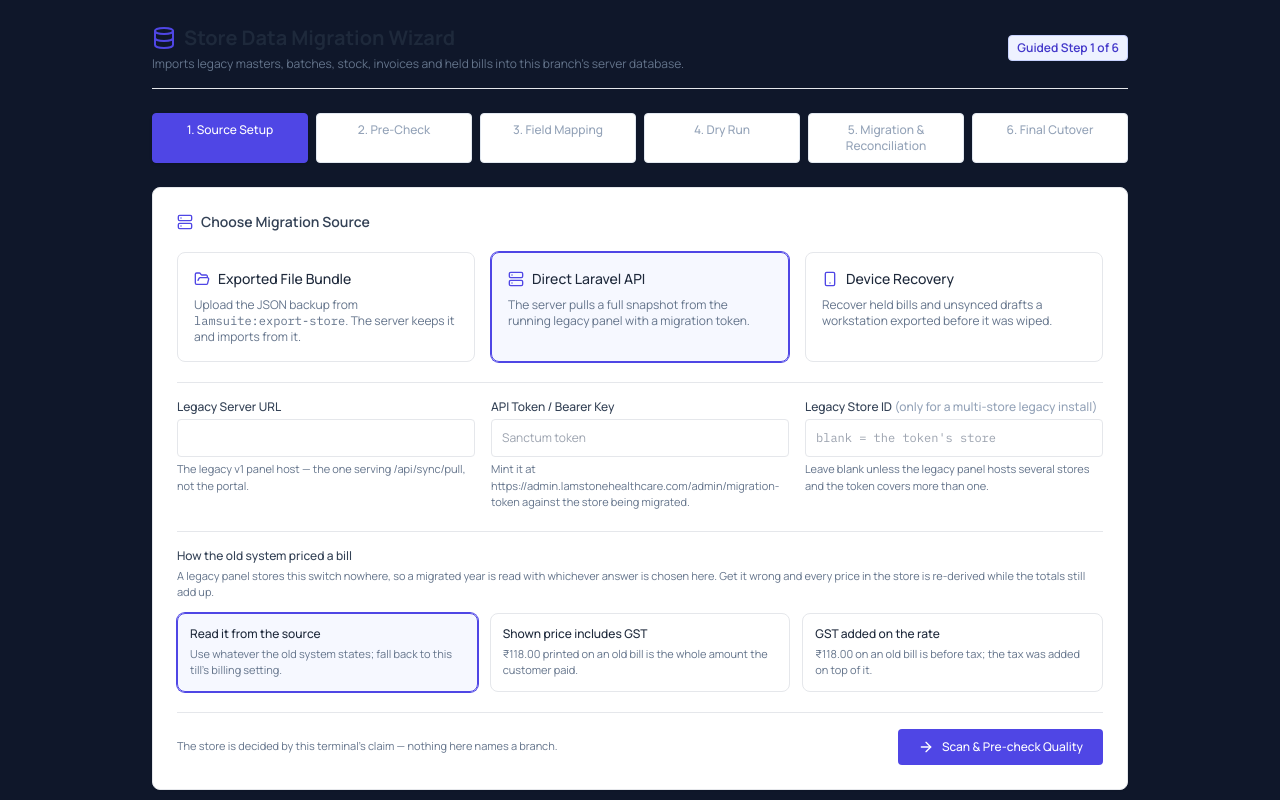
Scenario: the migration wizard reports the server, not itself › shows the branch's own switch when the server refuses to migrate
Type "legacy-token" into the password field with placeholder "Sanctum token".
click(640, 438); type("legacy-token")  # box [491, 419, 789, 457]
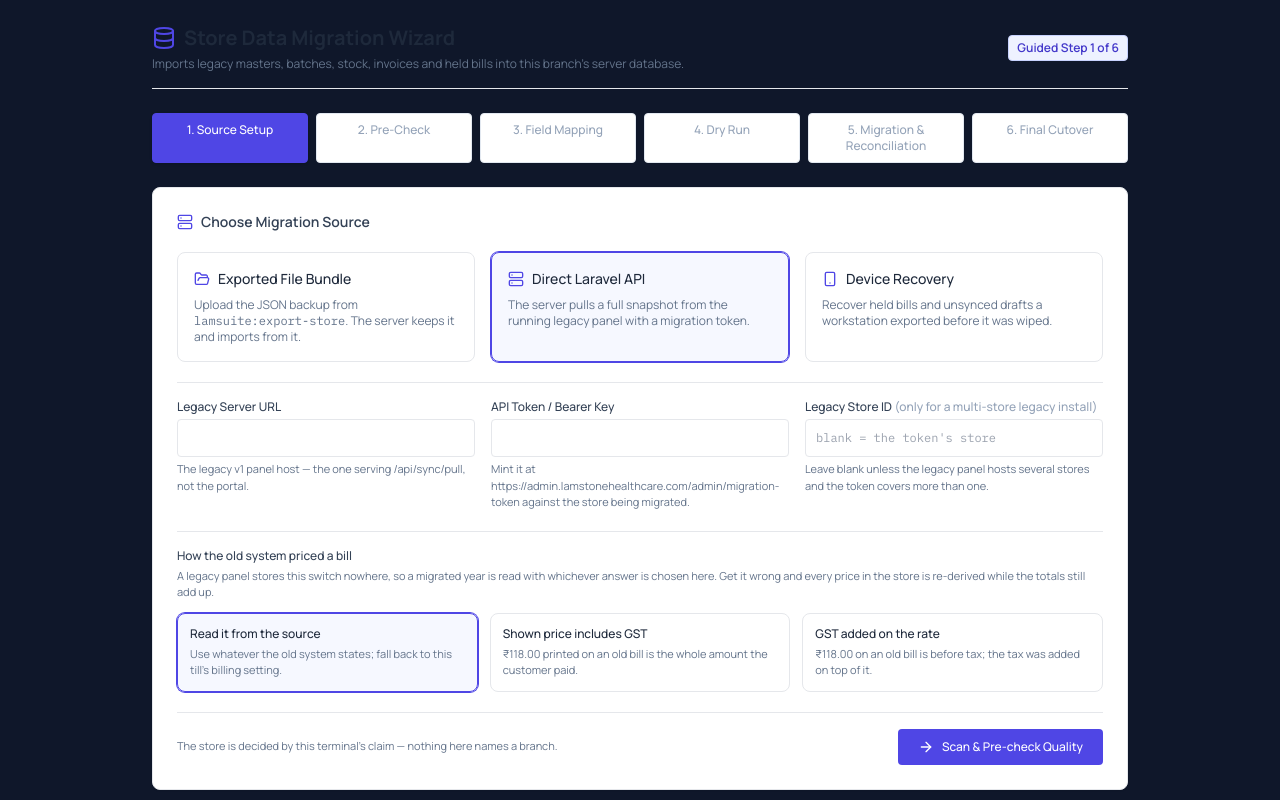
Click the button "Scan & Pre-check Quality".
click(1000, 746)  # box [898, 728, 1103, 764]
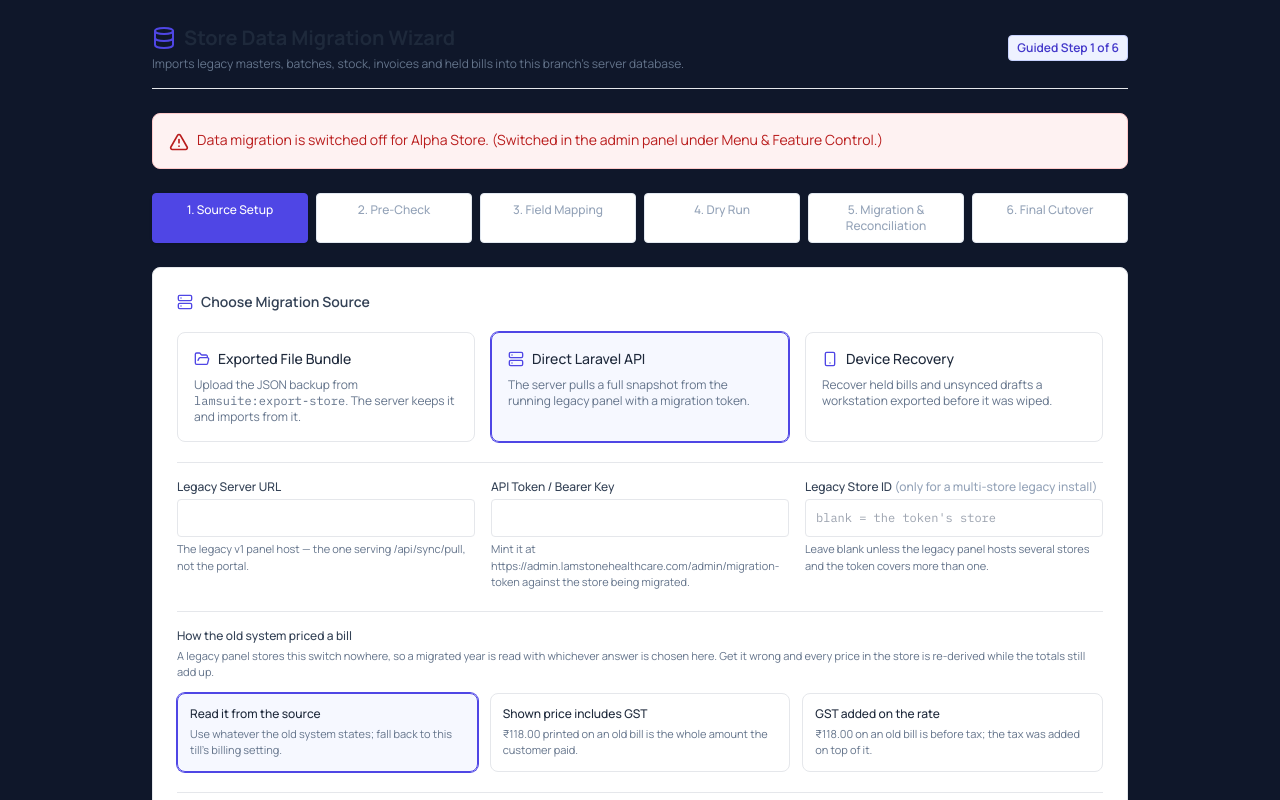
Now the text "switched off for Alpha Store" is shown, box [197, 130, 883, 149]
